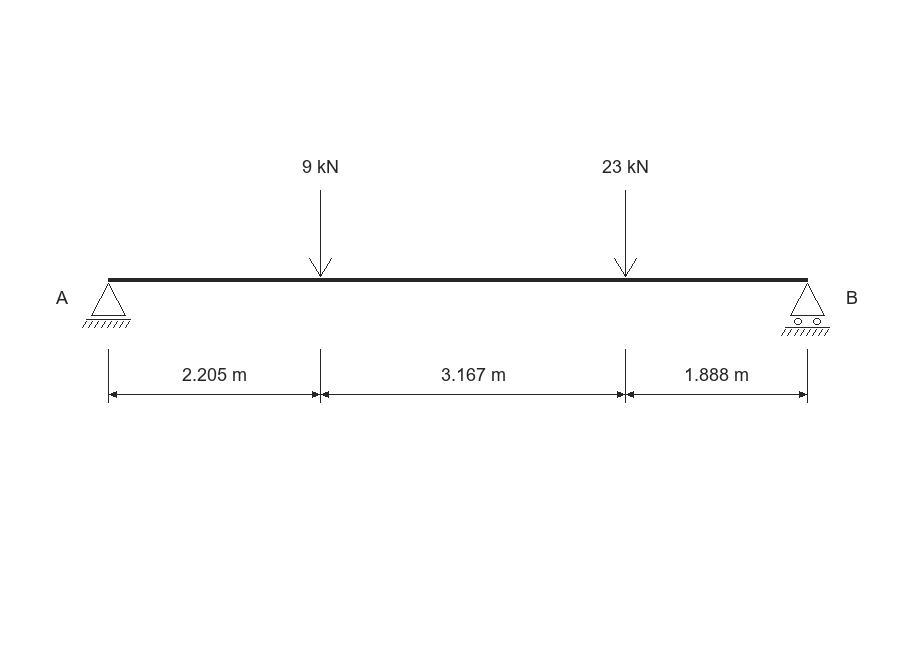pin_support: (82, 283, 131, 328)
point_load: (309, 190, 332, 277), (614, 190, 637, 277)
roller_support: (781, 283, 830, 336)
